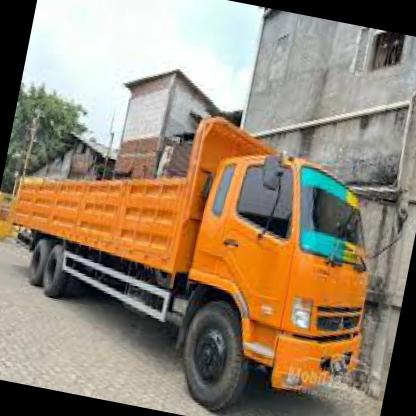truck: (166, 142, 400, 416)
